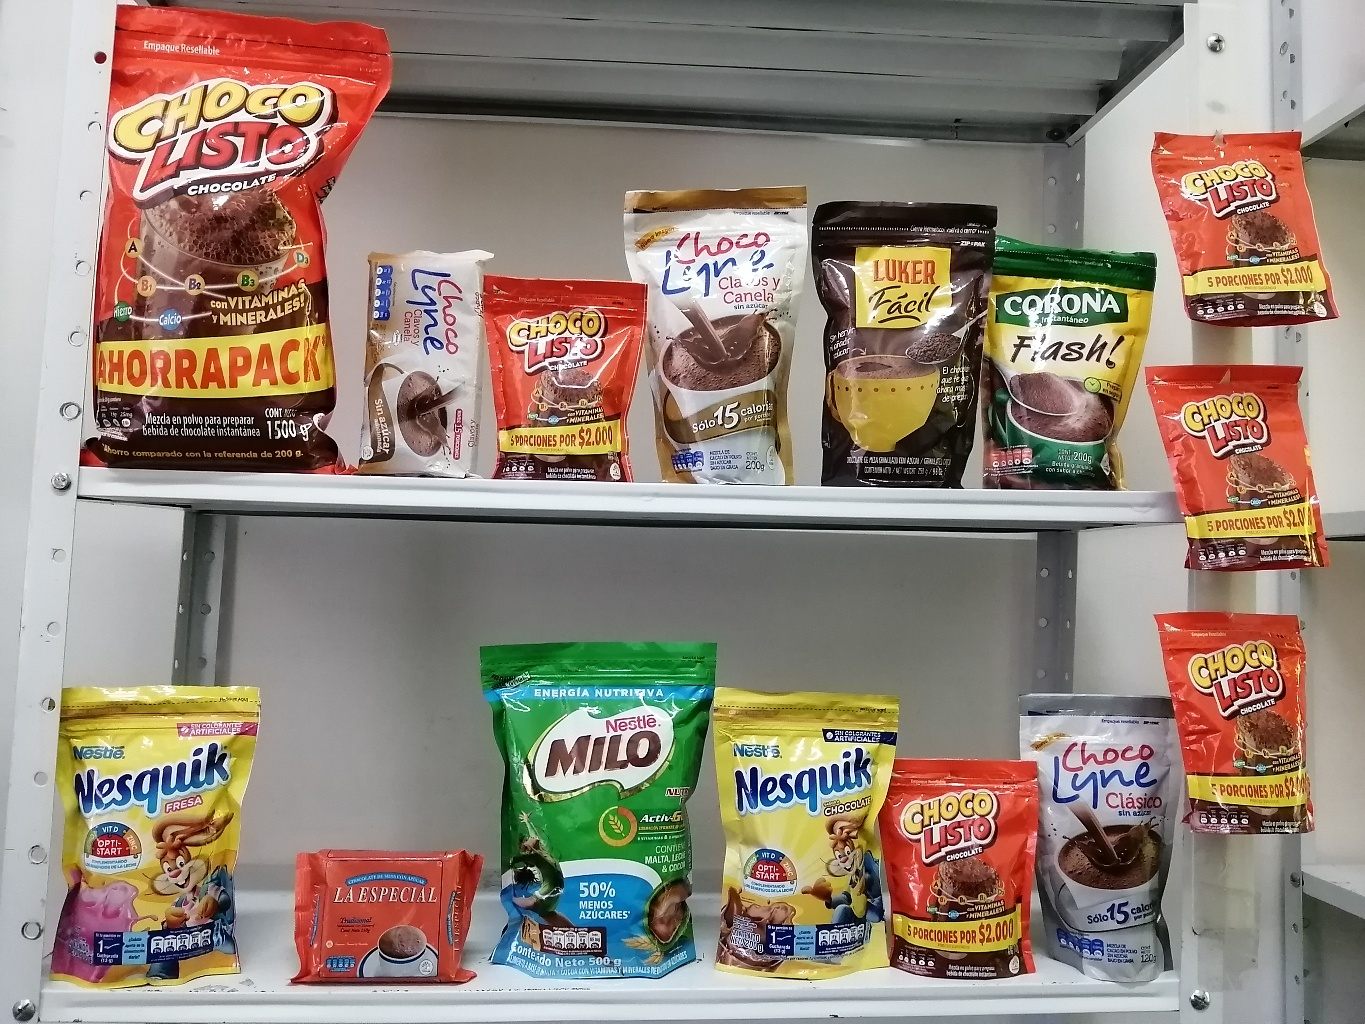COL0170103DYP1,500: (83, 5, 396, 481)
COL0170205DYP50000: (475, 634, 719, 986)
COL0170303DYP20000: (713, 680, 906, 979)
COL0170305DYP20000: (67, 675, 250, 986)
